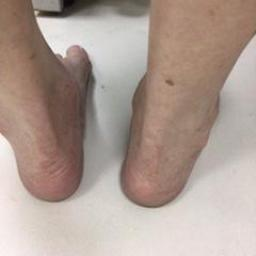Back View -Both Feet-: (2, 26, 234, 213)
